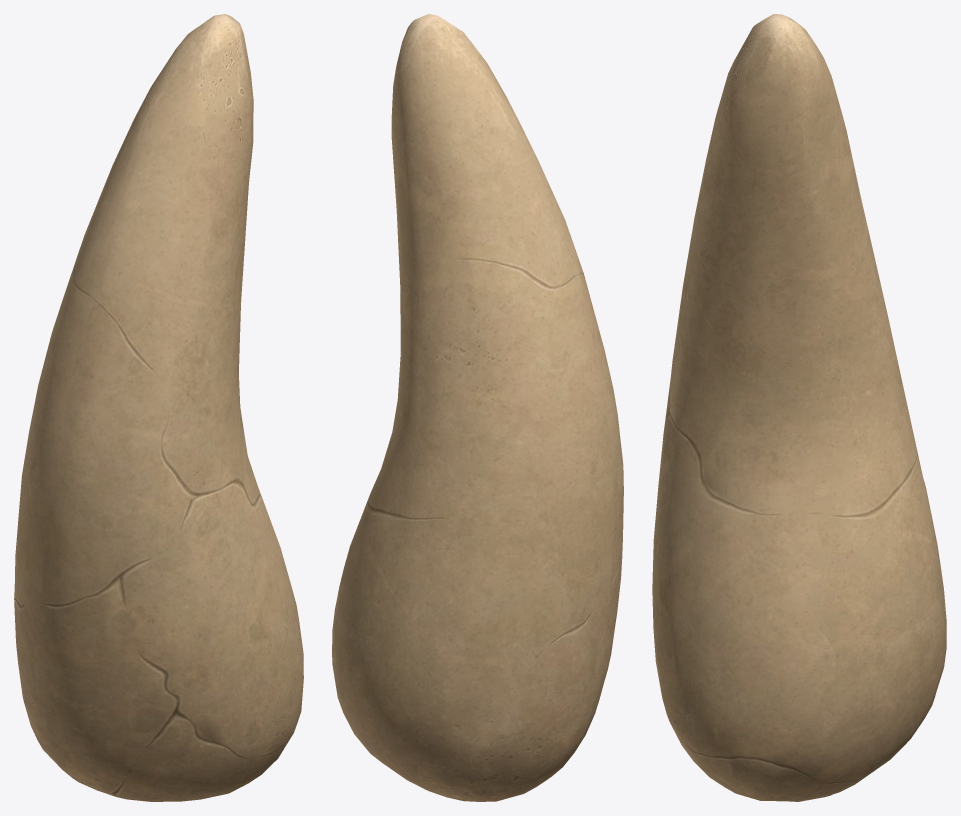
3 renders of one model, left to right at view 1: azimuth 30°, elevation 25°; view 2: azimuth 150°, elevation 25°; view 3: azimuth 270°, elevation 25°, orthographic. The views are drawn at different scales.
Visible parts, largest first — view 1: tb_bone_02a; view 2: tb_bone_02a; view 3: tb_bone_02a.
Part boxes in pixels (<box>): tb_bone_02a: <box>14,14,303,801</box>; tb_bone_02a: <box>332,14,623,801</box>; tb_bone_02a: <box>652,14,946,801</box>.
Size of the model in its own units: 1.57 by 4.46 by 1.5.
Materials: 1 (1 with a texture image).
